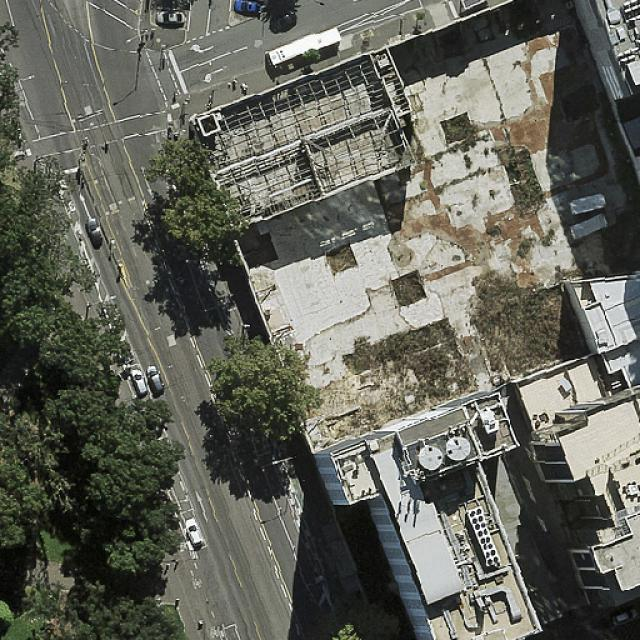Bike-Symbols: (206, 624, 222, 639), (191, 578, 206, 590), (176, 541, 188, 554)
